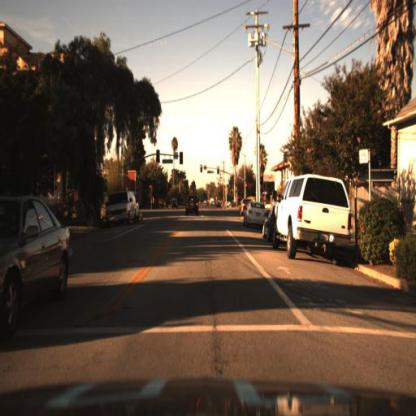car: (1, 193, 75, 337), (272, 172, 355, 255), (104, 193, 141, 228), (242, 201, 269, 231), (260, 202, 273, 245), (180, 195, 201, 221), (184, 194, 200, 217)
trafficLight-Red: (243, 180, 251, 194), (148, 182, 155, 196), (216, 166, 222, 179), (200, 164, 205, 177)
